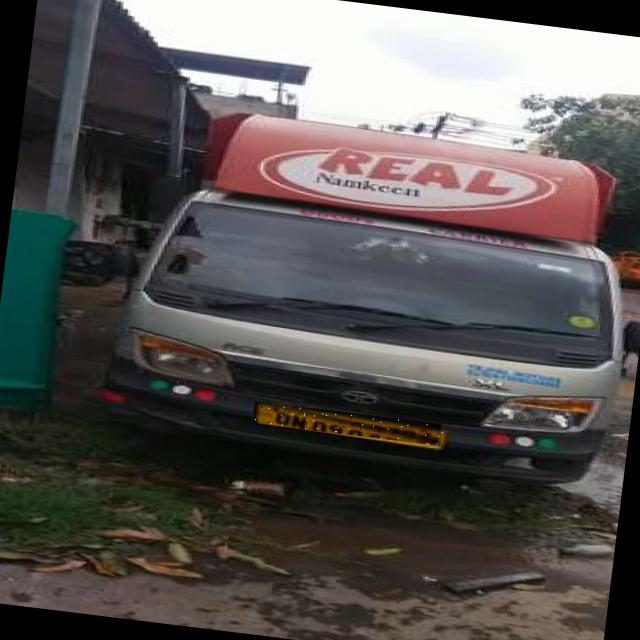Plate: (254, 402, 445, 447)
